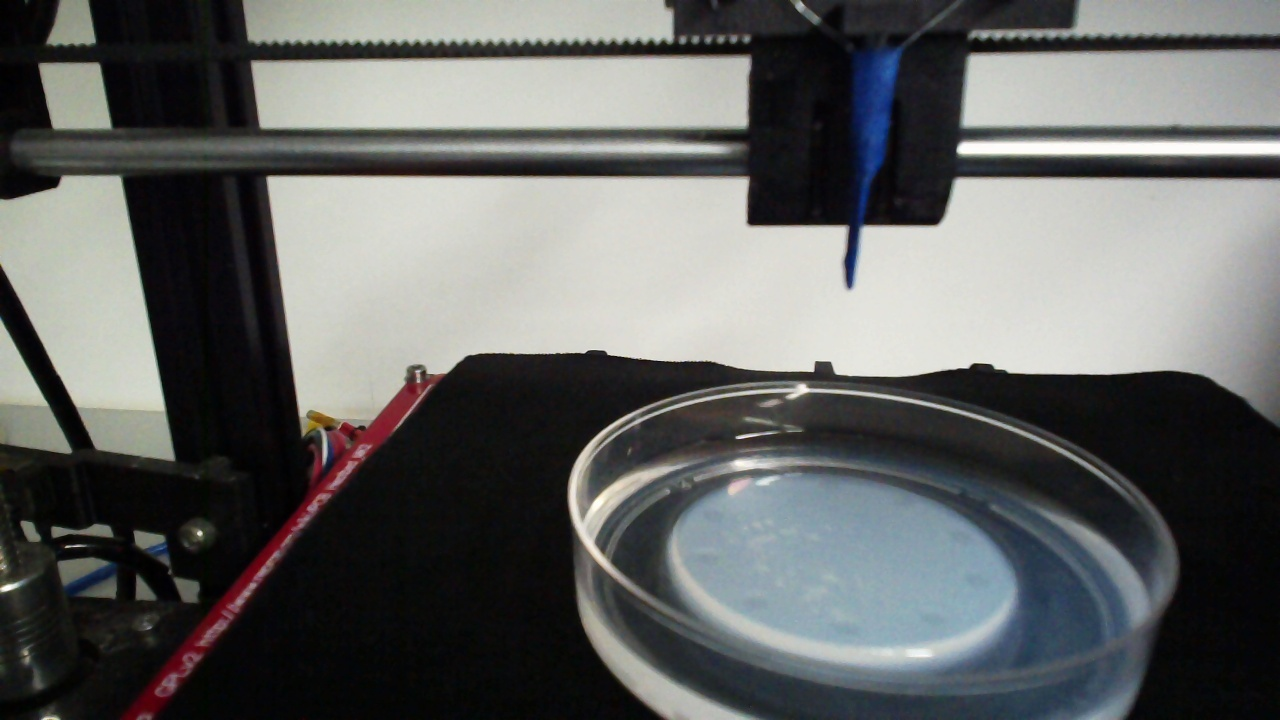groove: (829, 615, 863, 639), (739, 591, 772, 614), (692, 547, 723, 571), (918, 608, 950, 631), (887, 490, 923, 510), (965, 569, 994, 593), (949, 526, 975, 552), (815, 474, 846, 494), (703, 505, 728, 527)
needle: (843, 56, 895, 289)
